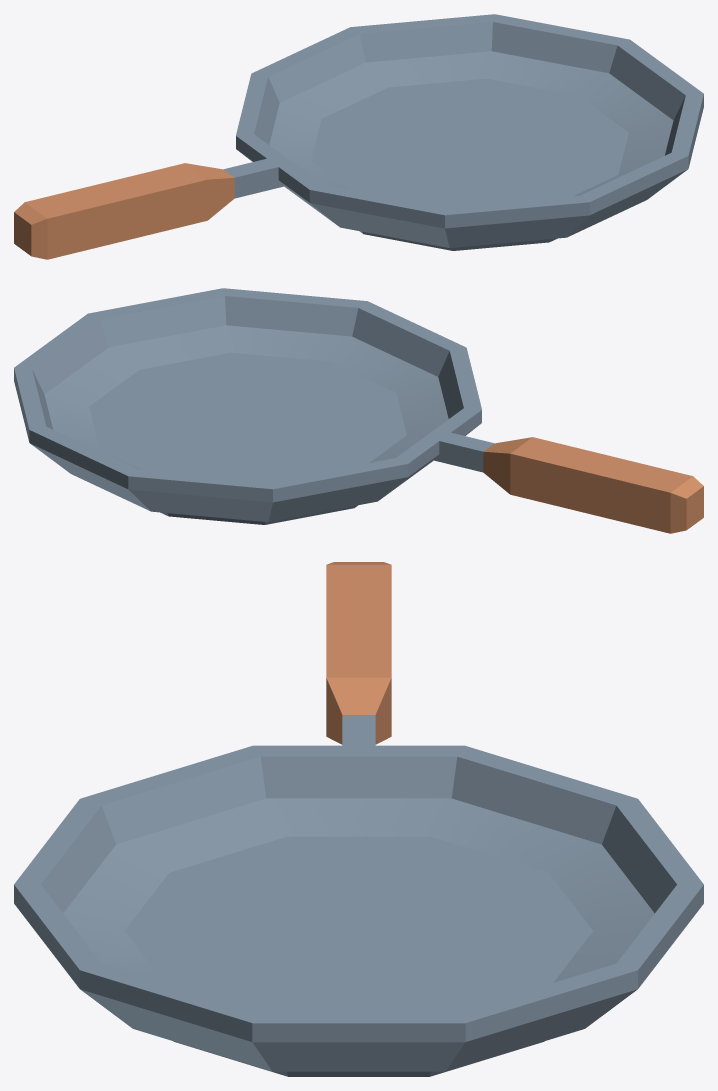
File: fryingPan.fbx
3 renders of one model, top to bottom at view 1: azimuth 30°, elevation 25°; view 2: azimuth 150°, elevation 25°; view 3: azimuth 270°, elevation 25°, orthographic. The views are drawn at different scales.
Visible parts, largest first — view 1: fryingPan; view 2: fryingPan; view 3: fryingPan.
Part boxes in pixels (x1=…): fryingPan: x1=14, y1=14, x2=703, y2=259; fryingPan: x1=14, y1=288, x2=703, y2=533; fryingPan: x1=14, y1=562, x2=703, y2=1076.
Size of the model in its own units: 10.22 by 1.21 by 6.57.
